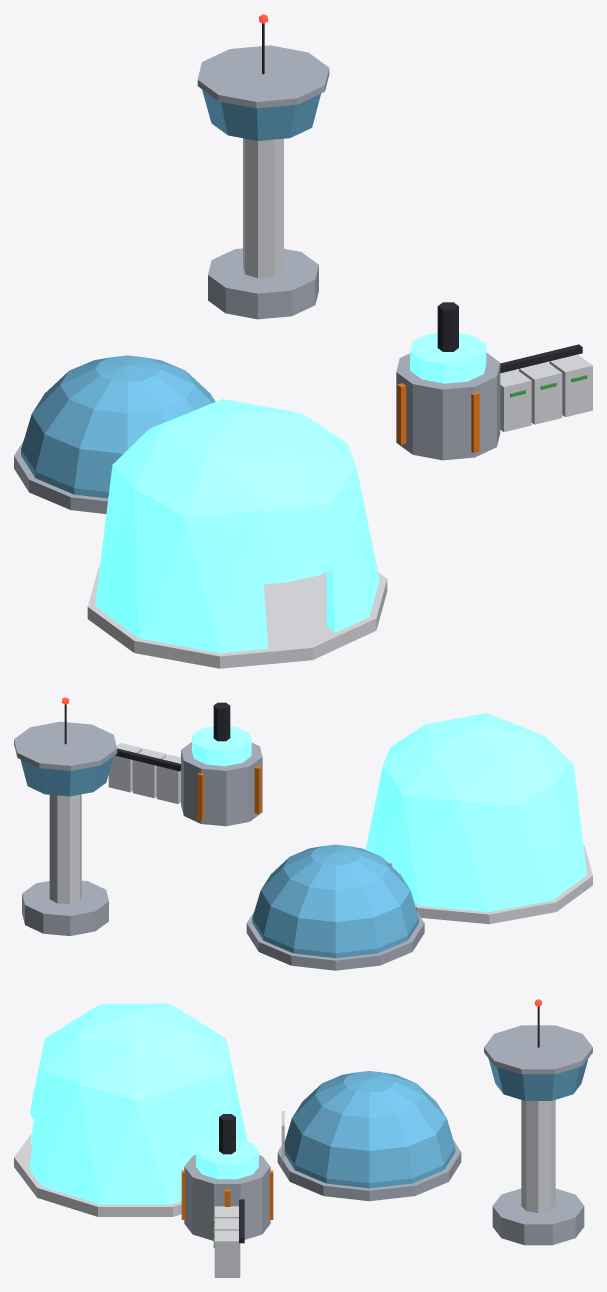
Rendered from AssetsMain.fbx.
The picture shows the model from 3 angles, top to bottom: view 1: azimuth 30°, elevation 25°; view 2: azimuth 150°, elevation 25°; view 3: azimuth 270°, elevation 25°; orthographic projection. The views are drawn at different scales.
Visible parts, largest first — view 1: Icosphere, command_tower, dome_habitat, reactor, Cylinder, battery_bank; view 2: Icosphere, dome_habitat, command_tower, reactor, battery_bank, Cylinder; view 3: Icosphere, dome_habitat, command_tower, reactor, Cylinder, battery_bank.
Part boxes in pixels (box(x1,y1,x2,y2)): Icosphere: box(95, 399, 379, 653); command_tower: box(197, 14, 329, 319); dome_habitat: box(14, 355, 215, 513); reactor: box(396, 302, 500, 460); Cylinder: box(87, 567, 387, 668); battery_bank: box(500, 344, 592, 431); Icosphere: box(365, 713, 587, 911); dome_habitat: box(246, 844, 424, 970); command_tower: box(14, 697, 117, 935); reactor: box(181, 702, 262, 826); battery_bank: box(108, 743, 181, 803); Cylinder: box(365, 845, 592, 924); Icosphere: box(29, 1003, 247, 1204); dome_habitat: box(277, 1071, 461, 1201); command_tower: box(484, 999, 592, 1245); reactor: box(181, 1114, 273, 1240); Cylinder: box(14, 1134, 181, 1216); battery_bank: box(214, 1199, 244, 1277).
Bounding box in the file's own units: 1743 × 1063 × 2017.
